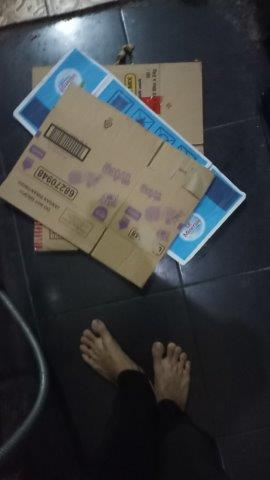kardus: (1, 50, 245, 288)
